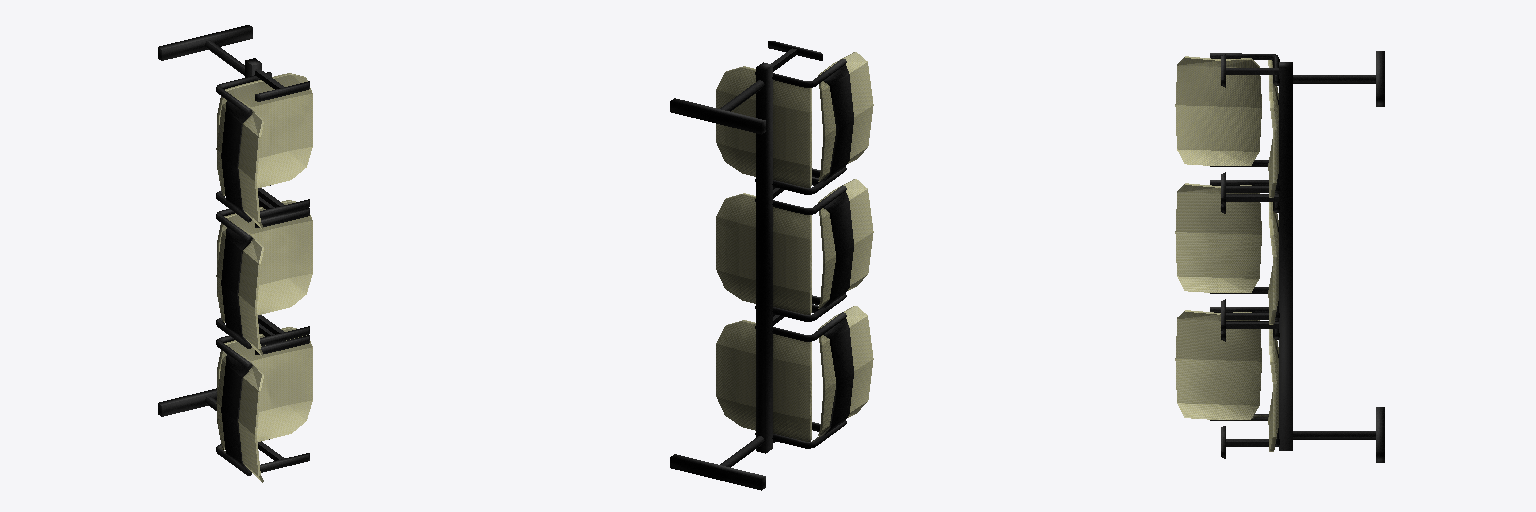
3 views of the same model, side by side, from view 1: azimuth 30°, elevation 25°; view 2: azimuth 150°, elevation 25°; view 3: azimuth 270°, elevation 25° (orthographic).
Visible parts, largest first — view 1: WhiteChipChair; view 2: WhiteChipChair; view 3: WhiteChipChair.
Boxes of the visible parts, box(x1,y1,x2,y2) form: WhiteChipChair: box(158, 25, 312, 482); WhiteChipChair: box(670, 41, 873, 490); WhiteChipChair: box(1175, 51, 1384, 462).
Bounding box in the file's own units: 0.459 × 1.57 × 0.7777.
1 materials, 1 textured.